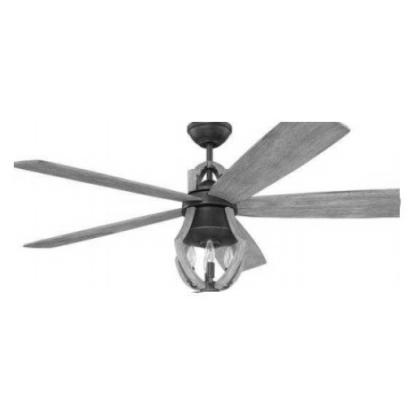ceiling-fan: (13, 122, 400, 292)
